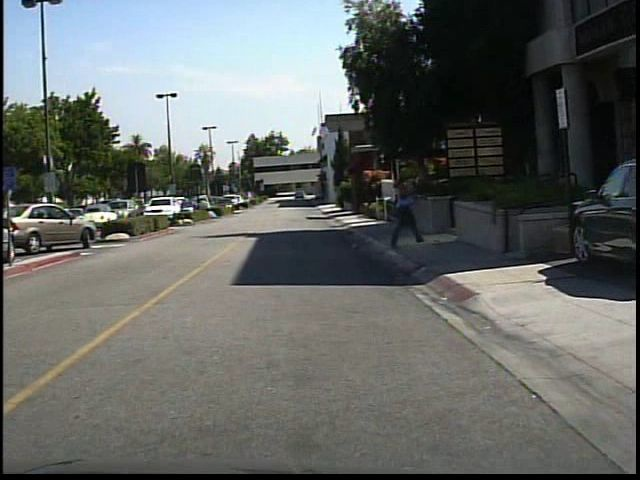person: (388, 169, 421, 251)
